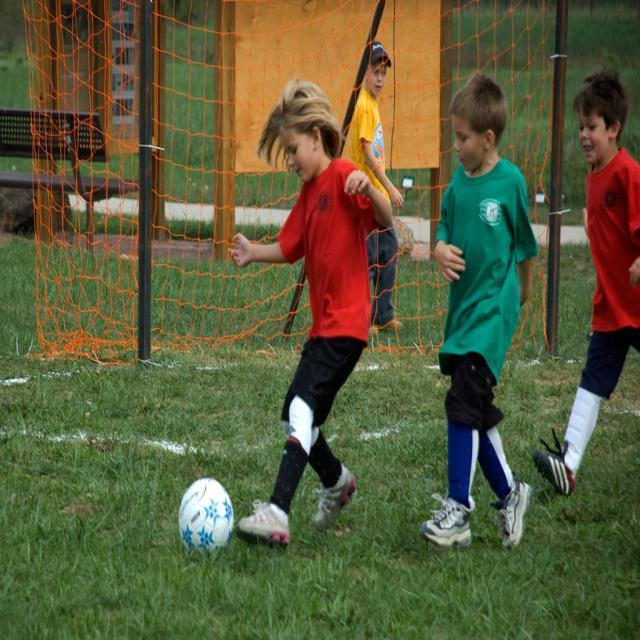football: (169, 458, 235, 561)
